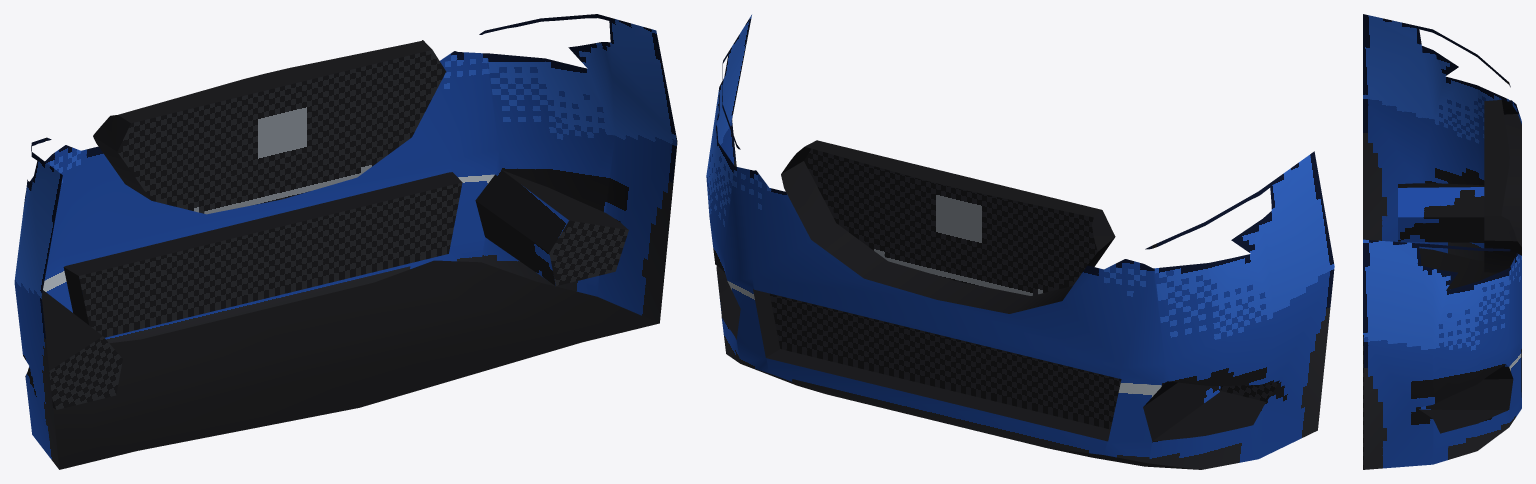
File: bumper_F_sport.glb
3 renders of one model, left to right at view 1: azimuth 30°, elevation 25°; view 2: azimuth 150°, elevation 25°; view 3: azimuth 270°, elevation 25°, orthographic. The views are drawn at different scales.
Visible parts, largest first — view 1: bumper_F_sport; view 2: bumper_F_sport; view 3: bumper_F_sport.
Part boxes in pixels (<box>): bumper_F_sport: <box>14,14,677,469</box>; bumper_F_sport: <box>706,15,1334,469</box>; bumper_F_sport: <box>1363,14,1521,469</box>.
Size of the model in its own units: 1.8 by 0.8298 by 0.5.
1 material, 1 textured.
